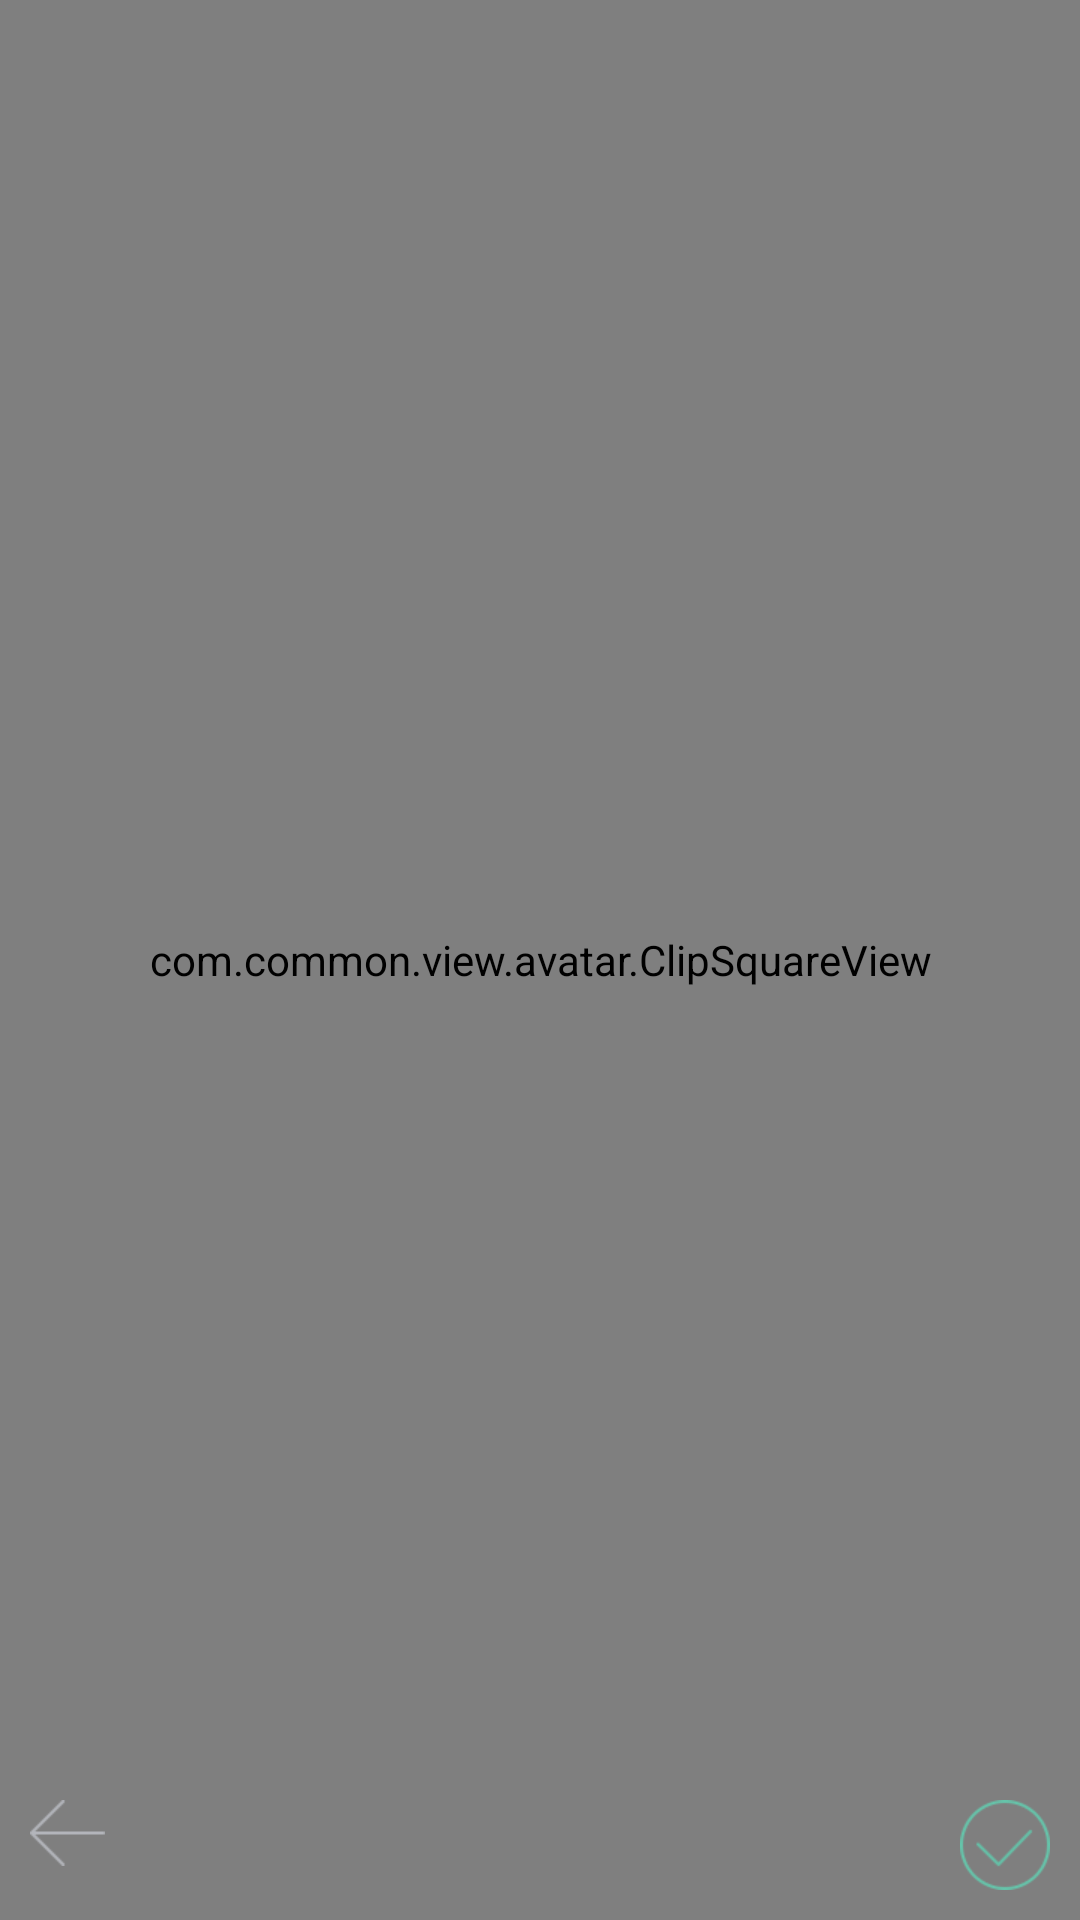

Icons on this 1080px x 1920px Android screen, each with its box as (x1, y1, x2, y2):
camera detailbackicon: (30, 1800, 105, 1866)
camera detailok: (960, 1800, 1050, 1890)
